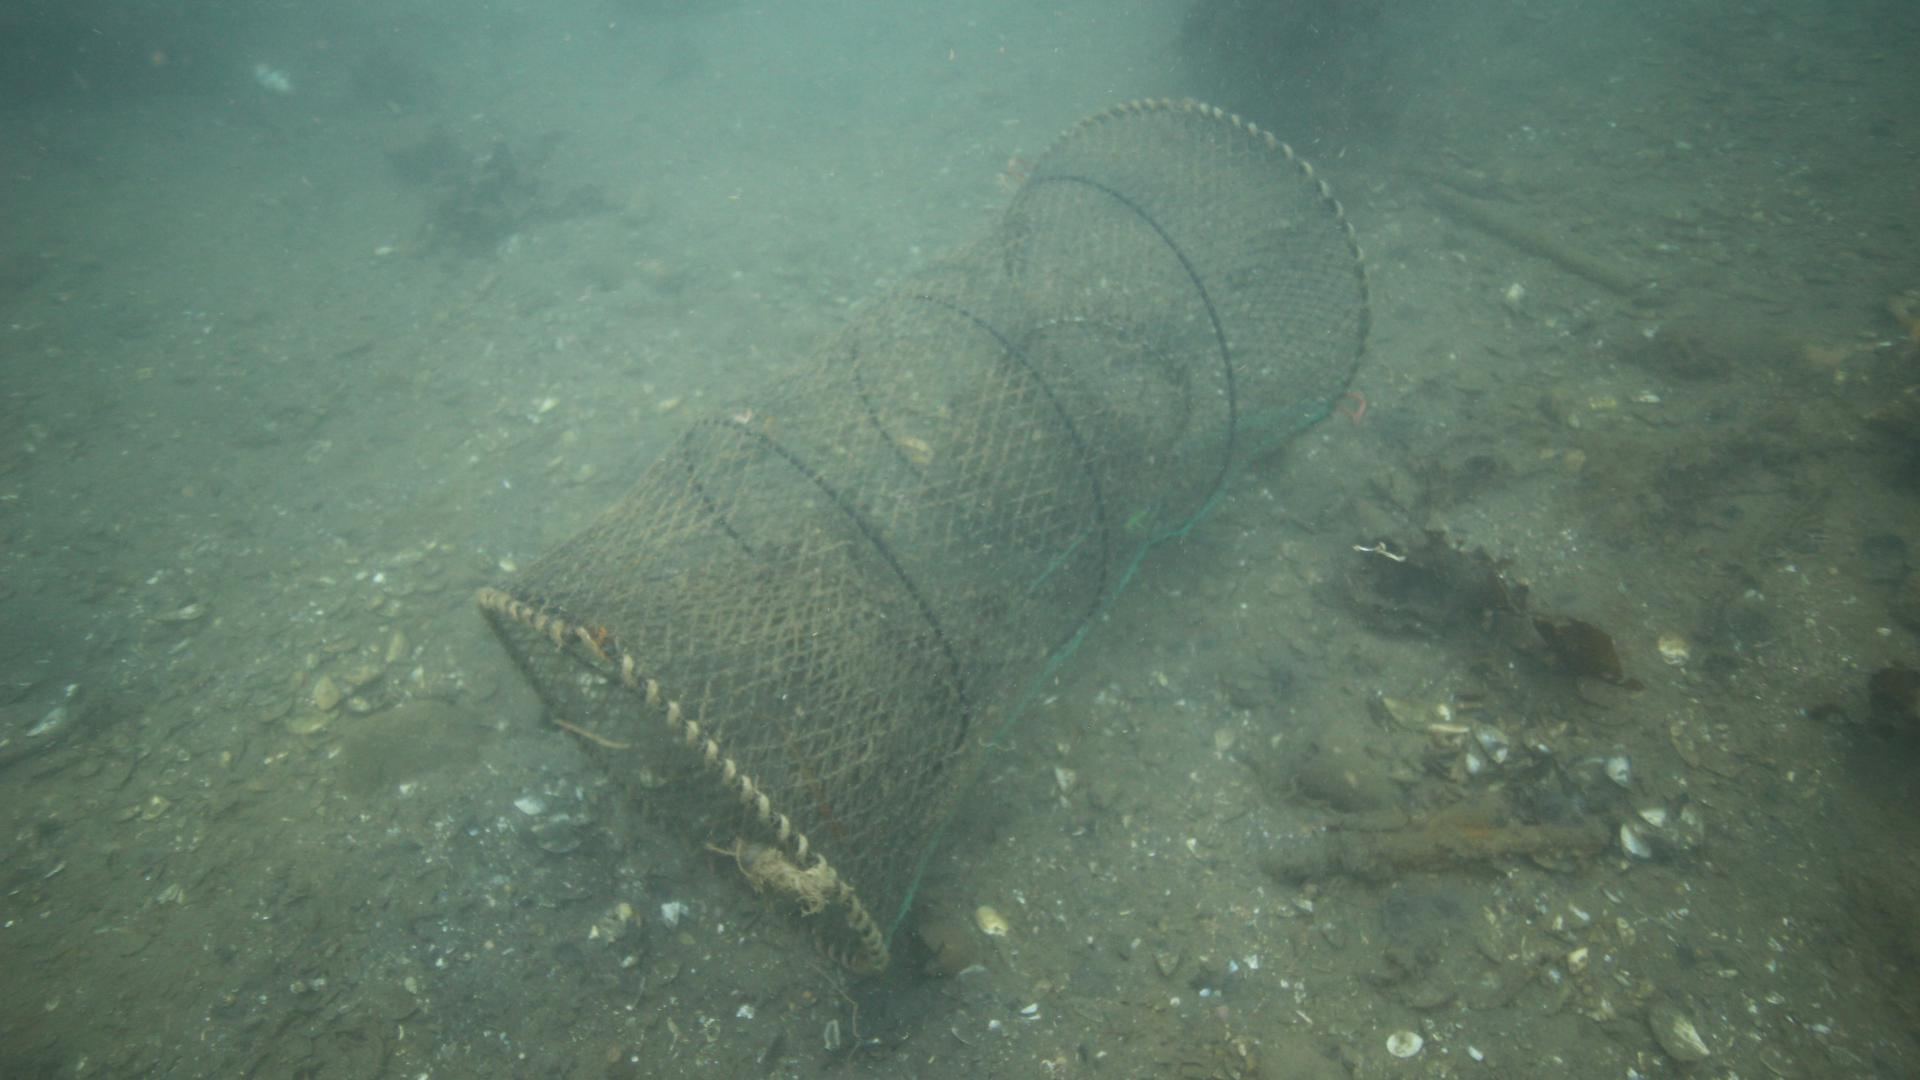spring fish trap: (477, 94, 1373, 975)
